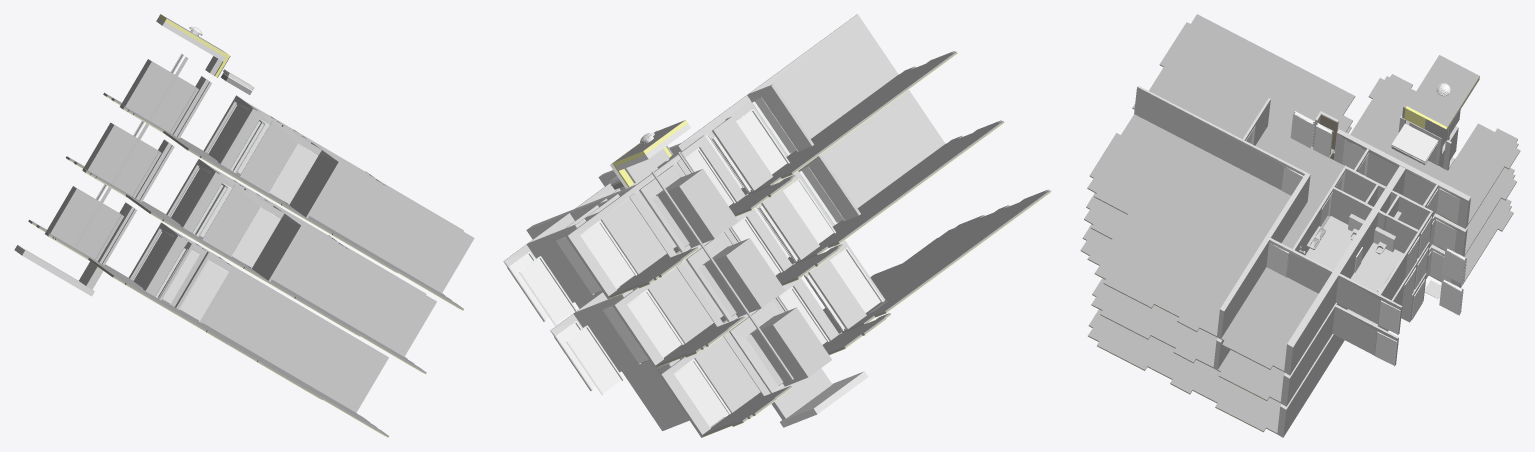
3 renders of one model, left to right at view 1: azimuth 30°, elevation 25°; view 2: azimuth 150°, elevation 25°; view 3: azimuth 270°, elevation 25°, orthographic. The views are drawn at different scales.
Parts seen in each view (by area): view 1: mesh; view 2: mesh; view 3: mesh.
Boxes of the visible parts, x1=… form: mesh: x1=14, y1=14, x2=474, y2=437; mesh: x1=503, y1=14, x2=1051, y2=437; mesh: x1=1080, y1=14, x2=1520, y2=437.
Bounding box in the file's own units: 19.07 × 16.17 × 19.2.
